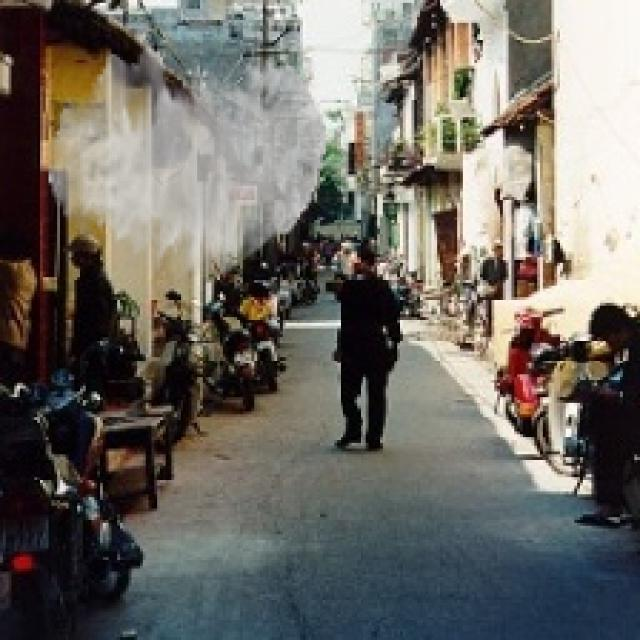smoke: (48, 46, 326, 277)
